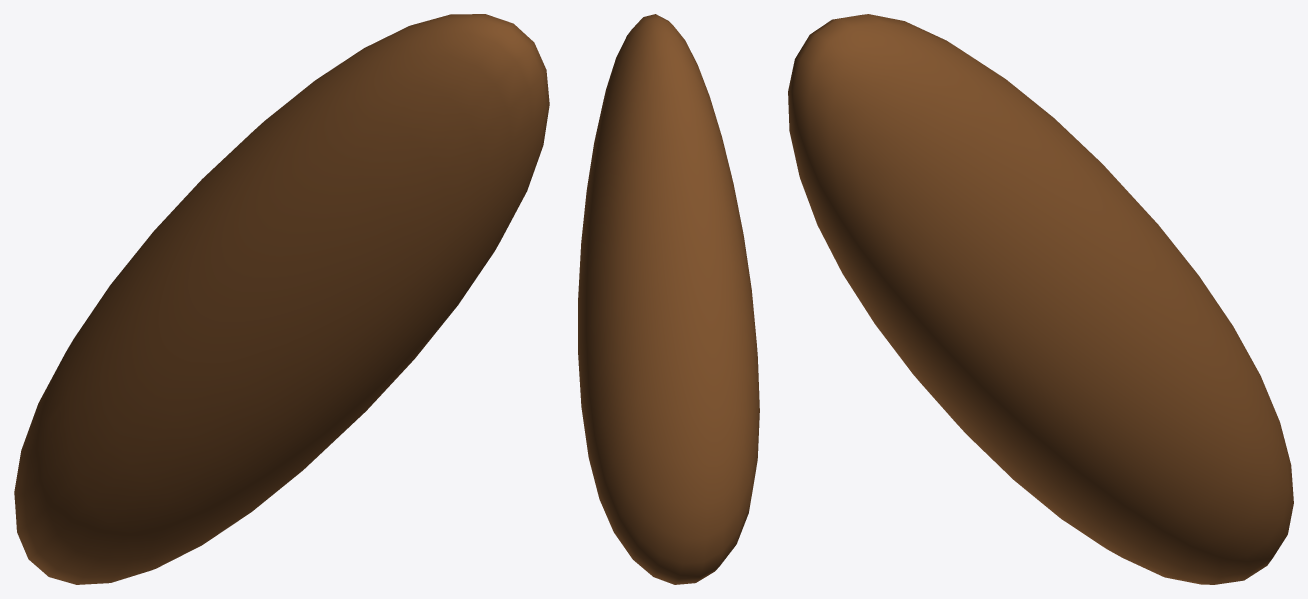
Rendered from LeftArmBear.fbx.
The picture shows the model from 3 angles, left to right: view 1: azimuth 30°, elevation 25°; view 2: azimuth 150°, elevation 25°; view 3: azimuth 270°, elevation 25°; orthographic projection. The views are drawn at different scales.
Parts seen in each view (by area): view 1: LeftArm; view 2: LeftArm; view 3: LeftArm.
Part boxes in pixels (x1,y1,x2,y2): LeftArm: (14,14,549,584); LeftArm: (578,14,759,584); LeftArm: (788,14,1293,584).
Bounding box in the file's own units: 49.29 × 86.55 × 59.77.
